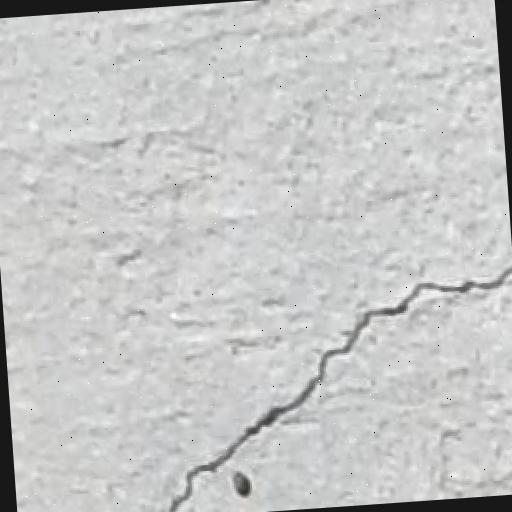spalling: (155, 254, 501, 511)
